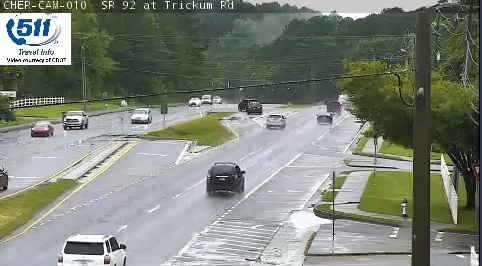car: (58, 235, 127, 266), (207, 163, 244, 190), (266, 114, 285, 127), (316, 112, 332, 123)
